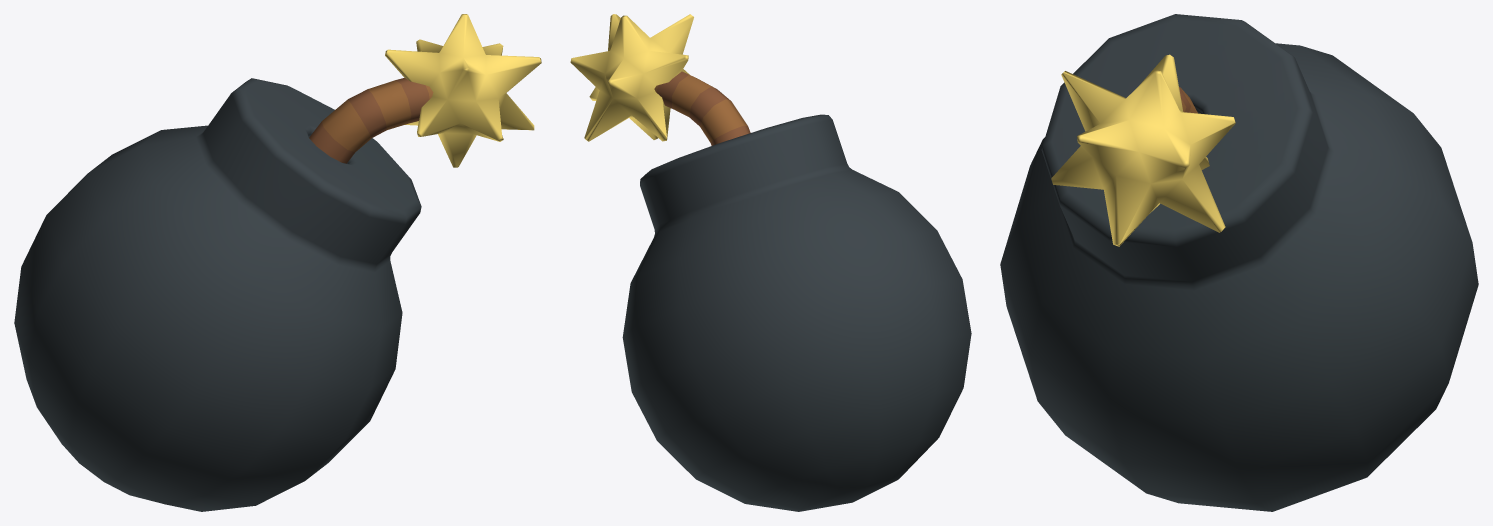
The picture shows the model from 3 angles, left to right: view 1: azimuth 30°, elevation 25°; view 2: azimuth 150°, elevation 25°; view 3: azimuth 270°, elevation 25°; orthographic projection. The views are drawn at different scales.
Visible parts, largest first — view 1: model_1.048; view 2: model_1.048; view 3: model_1.048.
Part boxes in pixels (x1,y1,x2,y2): model_1.048: (14,14,541,511); model_1.048: (570,14,971,511); model_1.048: (1000,14,1478,511).
Size of the model in its own units: 4.29 by 4.15 by 3.25.
